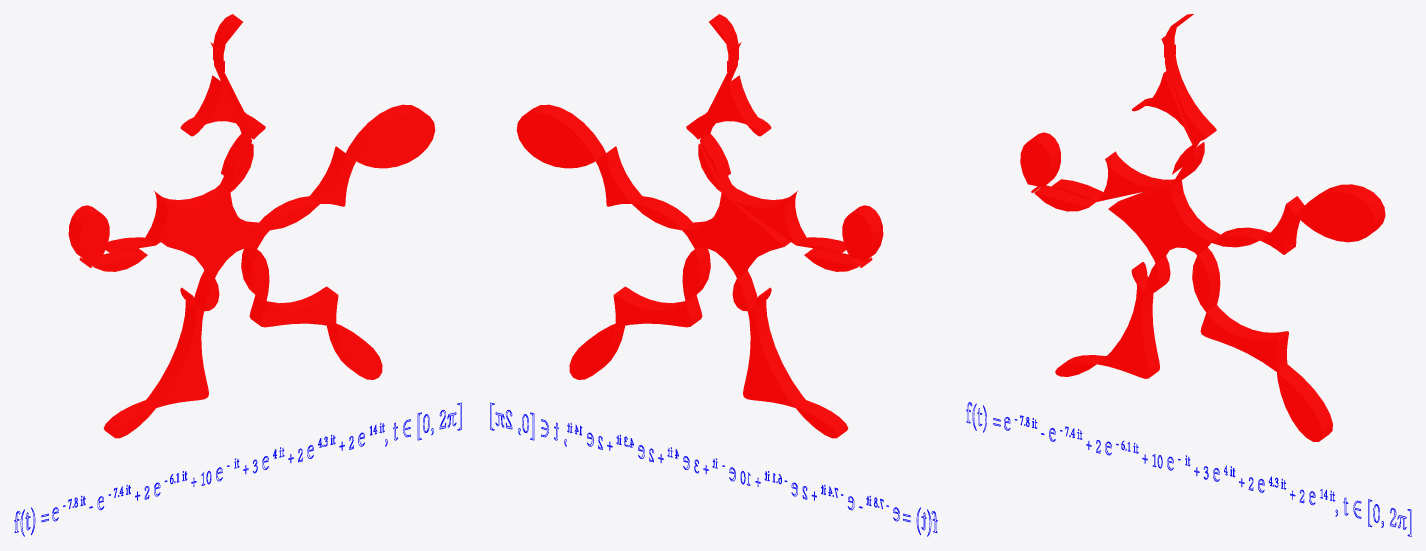
The model's file is Tennis.glb.
3 renders of one model, left to right at view 1: azimuth 30°, elevation 25°; view 2: azimuth 150°, elevation 25°; view 3: azimuth 330°, elevation 25°, orthographic.
Size of the model in its own units: 1.2 by 1.2 by 0.05.
